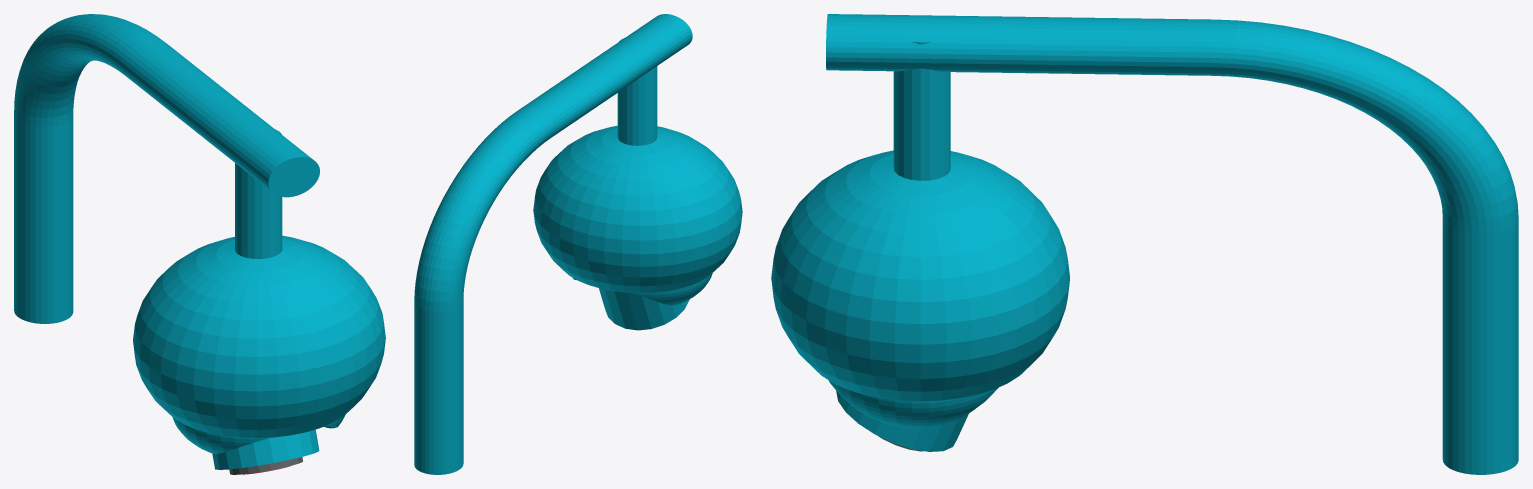
The model's file is Planned outdoor camera no breaks.glb.
3 views of the same model, side by side, from view 1: azimuth 30°, elevation 25°; view 2: azimuth 150°, elevation 25°; view 3: azimuth 270°, elevation 25° (orthographic). The views are drawn at different scales.
Parts seen in each view (by area): view 1: Mesh_Mesh_head_geo.001_lambert2SG.001; view 2: Mesh_Mesh_head_geo.001_lambert2SG.001; view 3: Mesh_Mesh_head_geo.001_lambert2SG.001.
Boxes of the visible parts, x1,y1,x2,y2 form: Mesh_Mesh_head_geo.001_lambert2SG.001: (14,14,385,474); Mesh_Mesh_head_geo.001_lambert2SG.001: (414,14,742,474); Mesh_Mesh_head_geo.001_lambert2SG.001: (771,14,1518,474).
Bounding box in the file's own units: 61 × 92.49 × 145.
